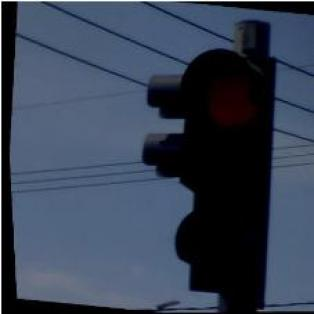Semaforo Rojo: (155, 44, 288, 294)
